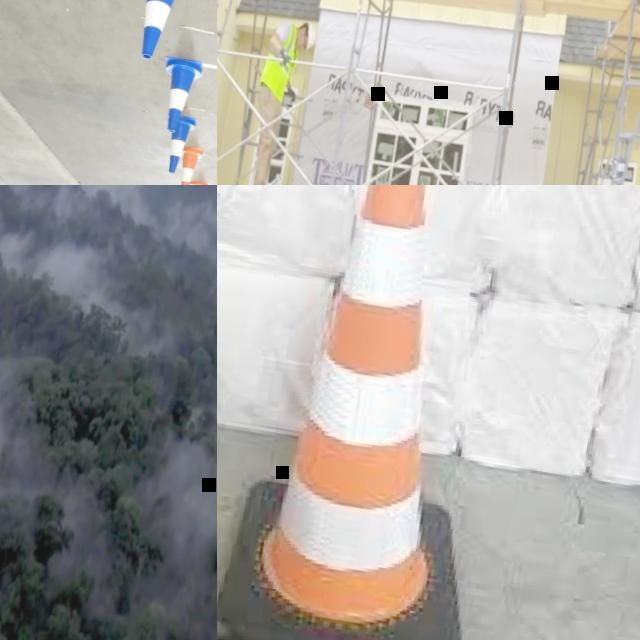Hardhat: (301, 21, 318, 53)
NO-Mask: (294, 33, 303, 51)
Person: (238, 14, 318, 185)
Safety Cone: (217, 185, 533, 640), (120, 0, 196, 63), (151, 55, 203, 137), (163, 115, 197, 177), (174, 145, 205, 185)
Safety Vest: (256, 18, 303, 102)
